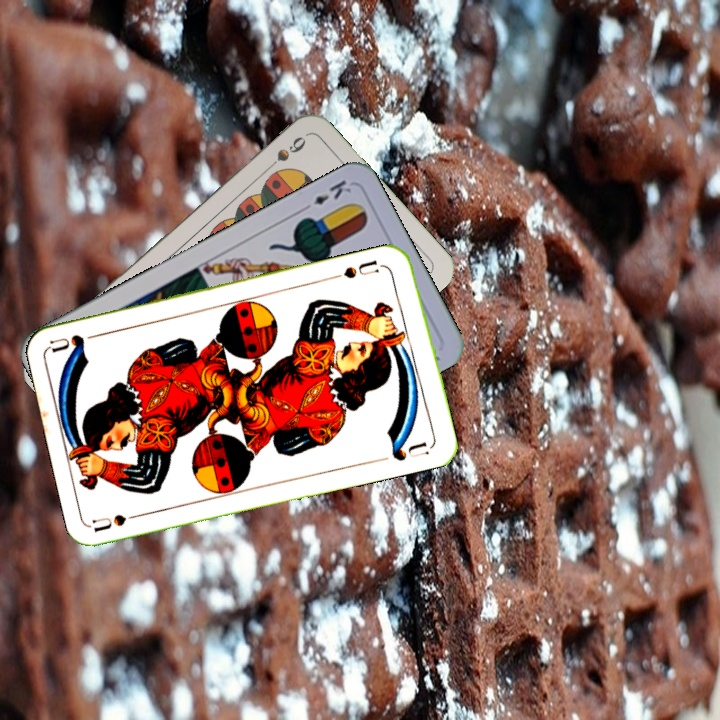EK: (297, 176, 354, 214)
S9: (260, 132, 309, 175)
SU: (90, 508, 150, 535), (339, 255, 381, 281)
